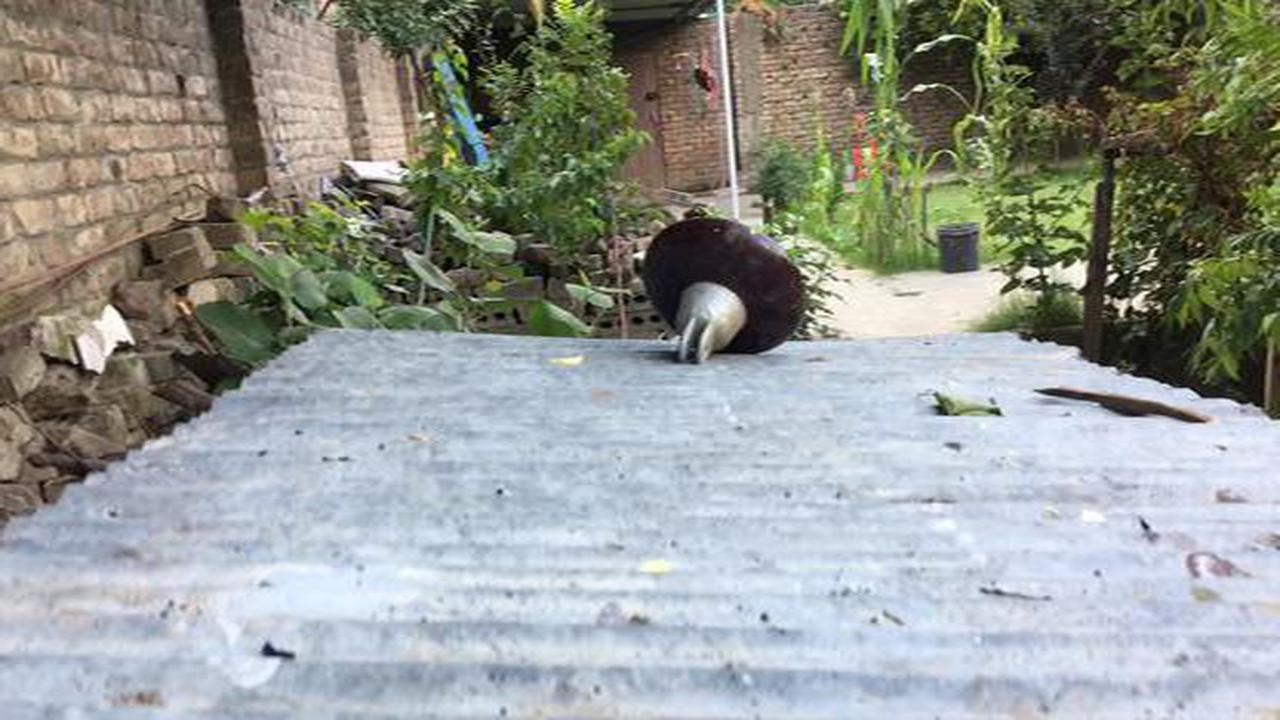insulator_disc: (632, 208, 810, 372)
